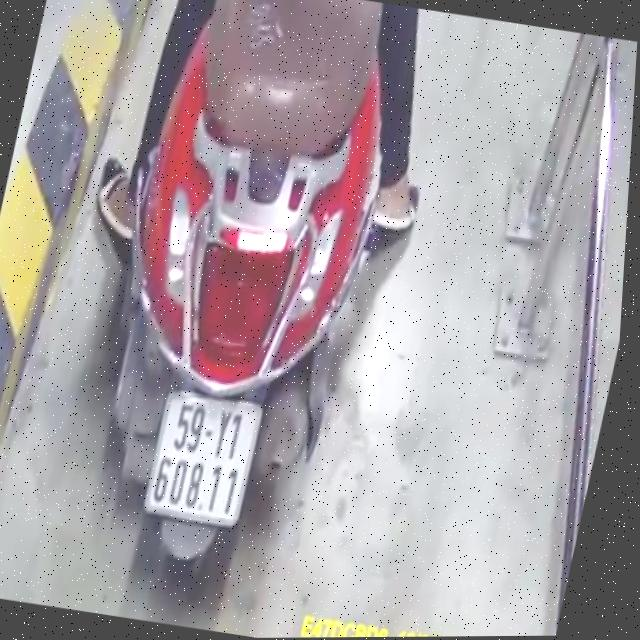motorcycle: (52, 0, 417, 607)
plate: (139, 385, 265, 530)
